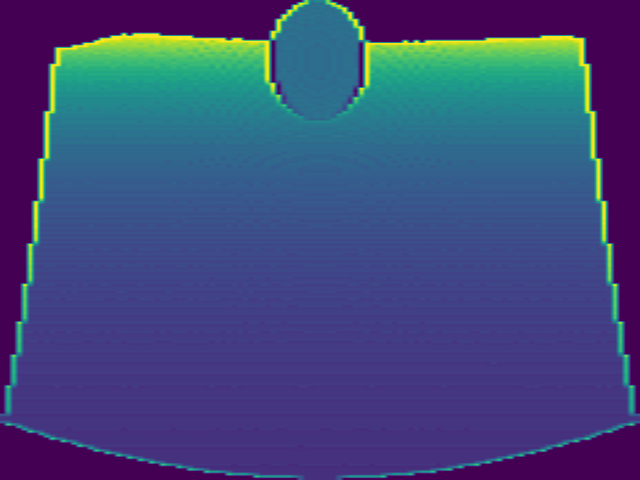sphere: (266, 1, 369, 121)
